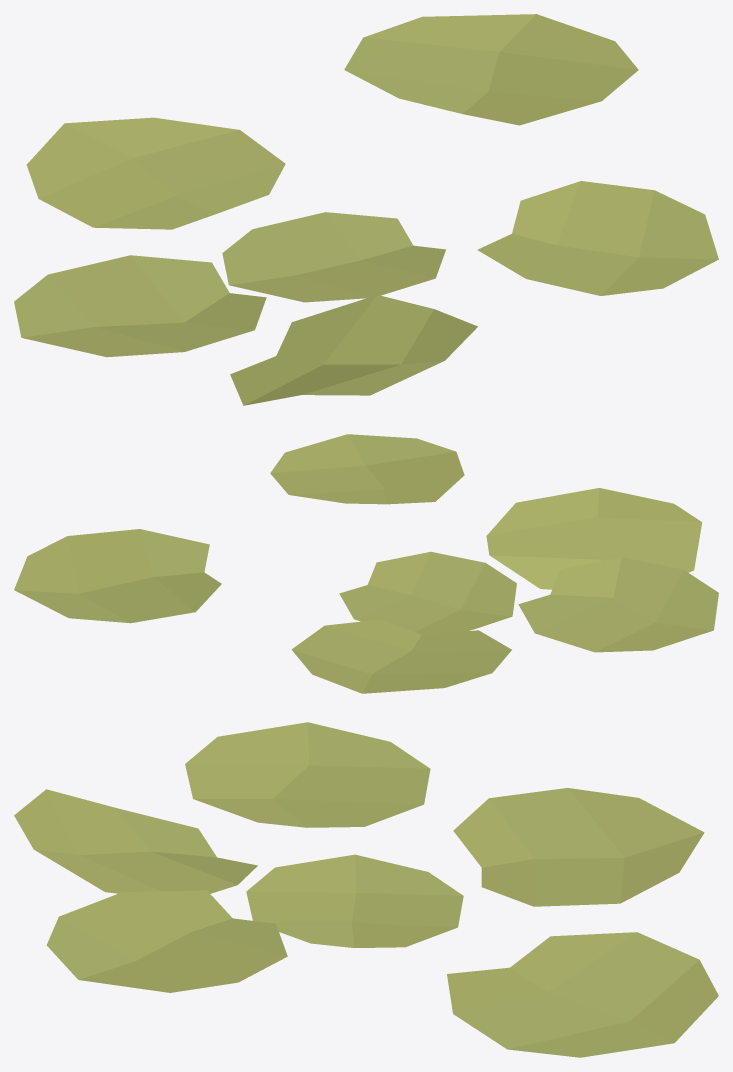
File: Lilly_leaves_2.fbx
The picture shows the model from 3 angles, top to bottom: view 1: azimuth 30°, elevation 25°; view 2: azimuth 150°, elevation 25°; view 3: azimuth 270°, elevation 25°; orthographic projection. The views are drawn at different scales.
Parts seen in each view (by area): view 1: Lilly_leaves_2; view 2: Lilly_leaves_2; view 3: Lilly_leaves_2.
Boxes of the visible parts, x1,y1,x2,y2 form: Lilly_leaves_2: [14, 14, 718, 405]; Lilly_leaves_2: [14, 434, 718, 693]; Lilly_leaves_2: [14, 722, 718, 1057].
Size of the model in its own units: 0.0688 by 0.00598 by 0.0582.
